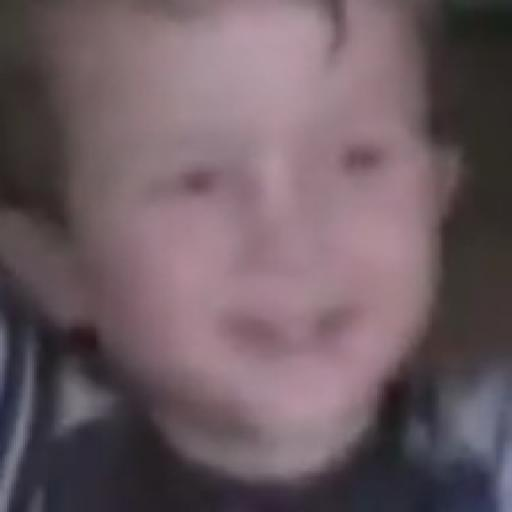Autism: (68, 34, 512, 438)
